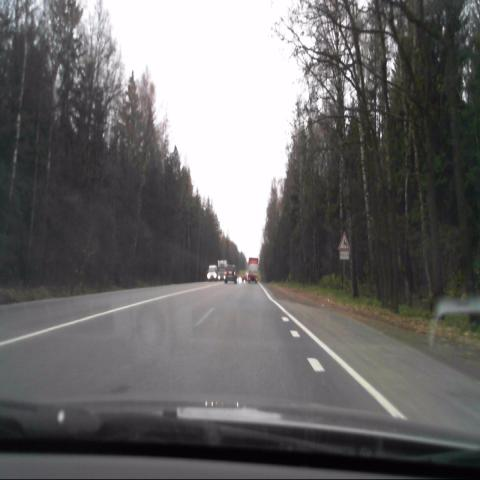1_27: (337, 231, 351, 251)
